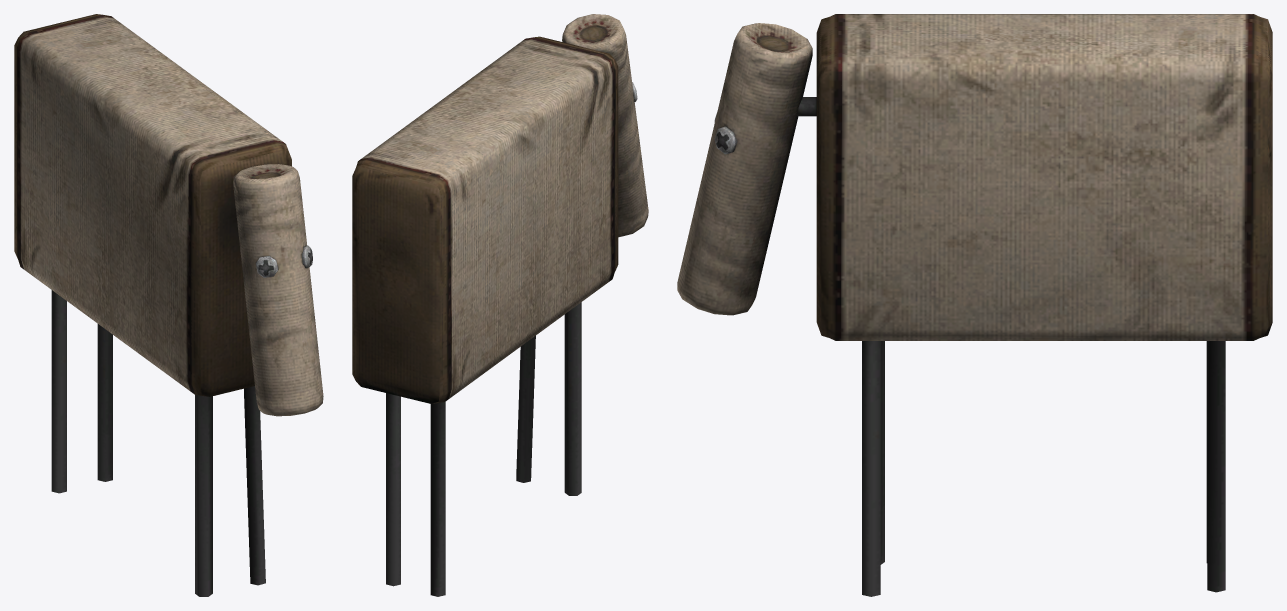
File: toy_horse.dae
The picture shows the model from 3 angles, left to right: view 1: azimuth 30°, elevation 25°; view 2: azimuth 150°, elevation 25°; view 3: azimuth 270°, elevation 25°; orthographic projection. The views are drawn at different scales.
Parts seen in each view (by area): view 1: toy_horse; view 2: toy_horse; view 3: toy_horse.
Boxes of the visible parts, box(x1,y1,x2,y2) form: toy_horse: box(14, 14, 323, 596); toy_horse: box(352, 14, 648, 596); toy_horse: box(677, 14, 1272, 596).
Size of the model in its own units: 0.0781 by 0.3483 by 0.3468.
